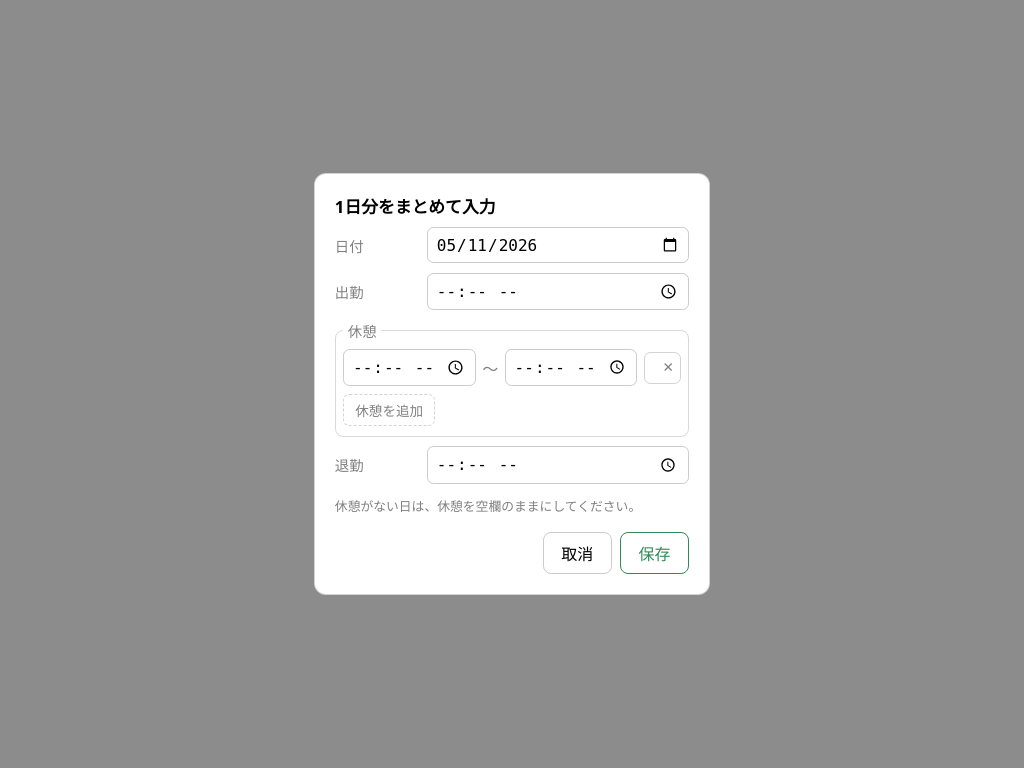
DayEntryDialog › 休憩の行を増やせる
Click the button with class "add-break" at (389, 410), box x1=343 y1=394 x2=435 y2=426
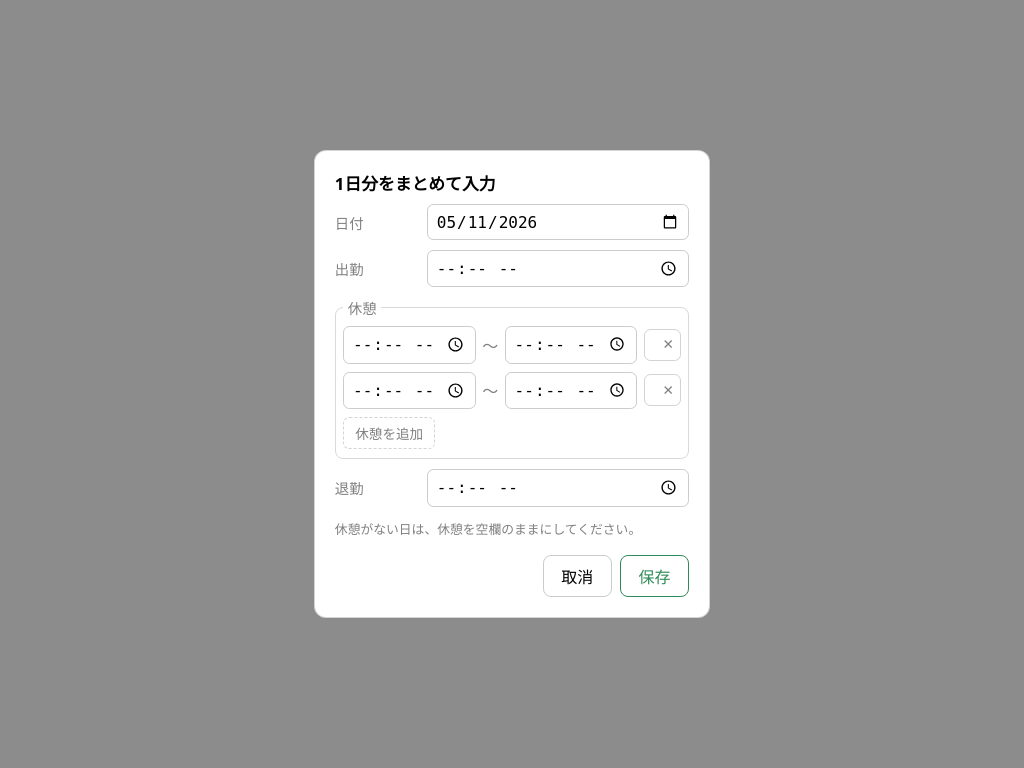
Result: the number of elements with class "break-row" is 2 at x1=343 y1=326 x2=681 y2=364; x1=343 y1=372 x2=681 y2=409
